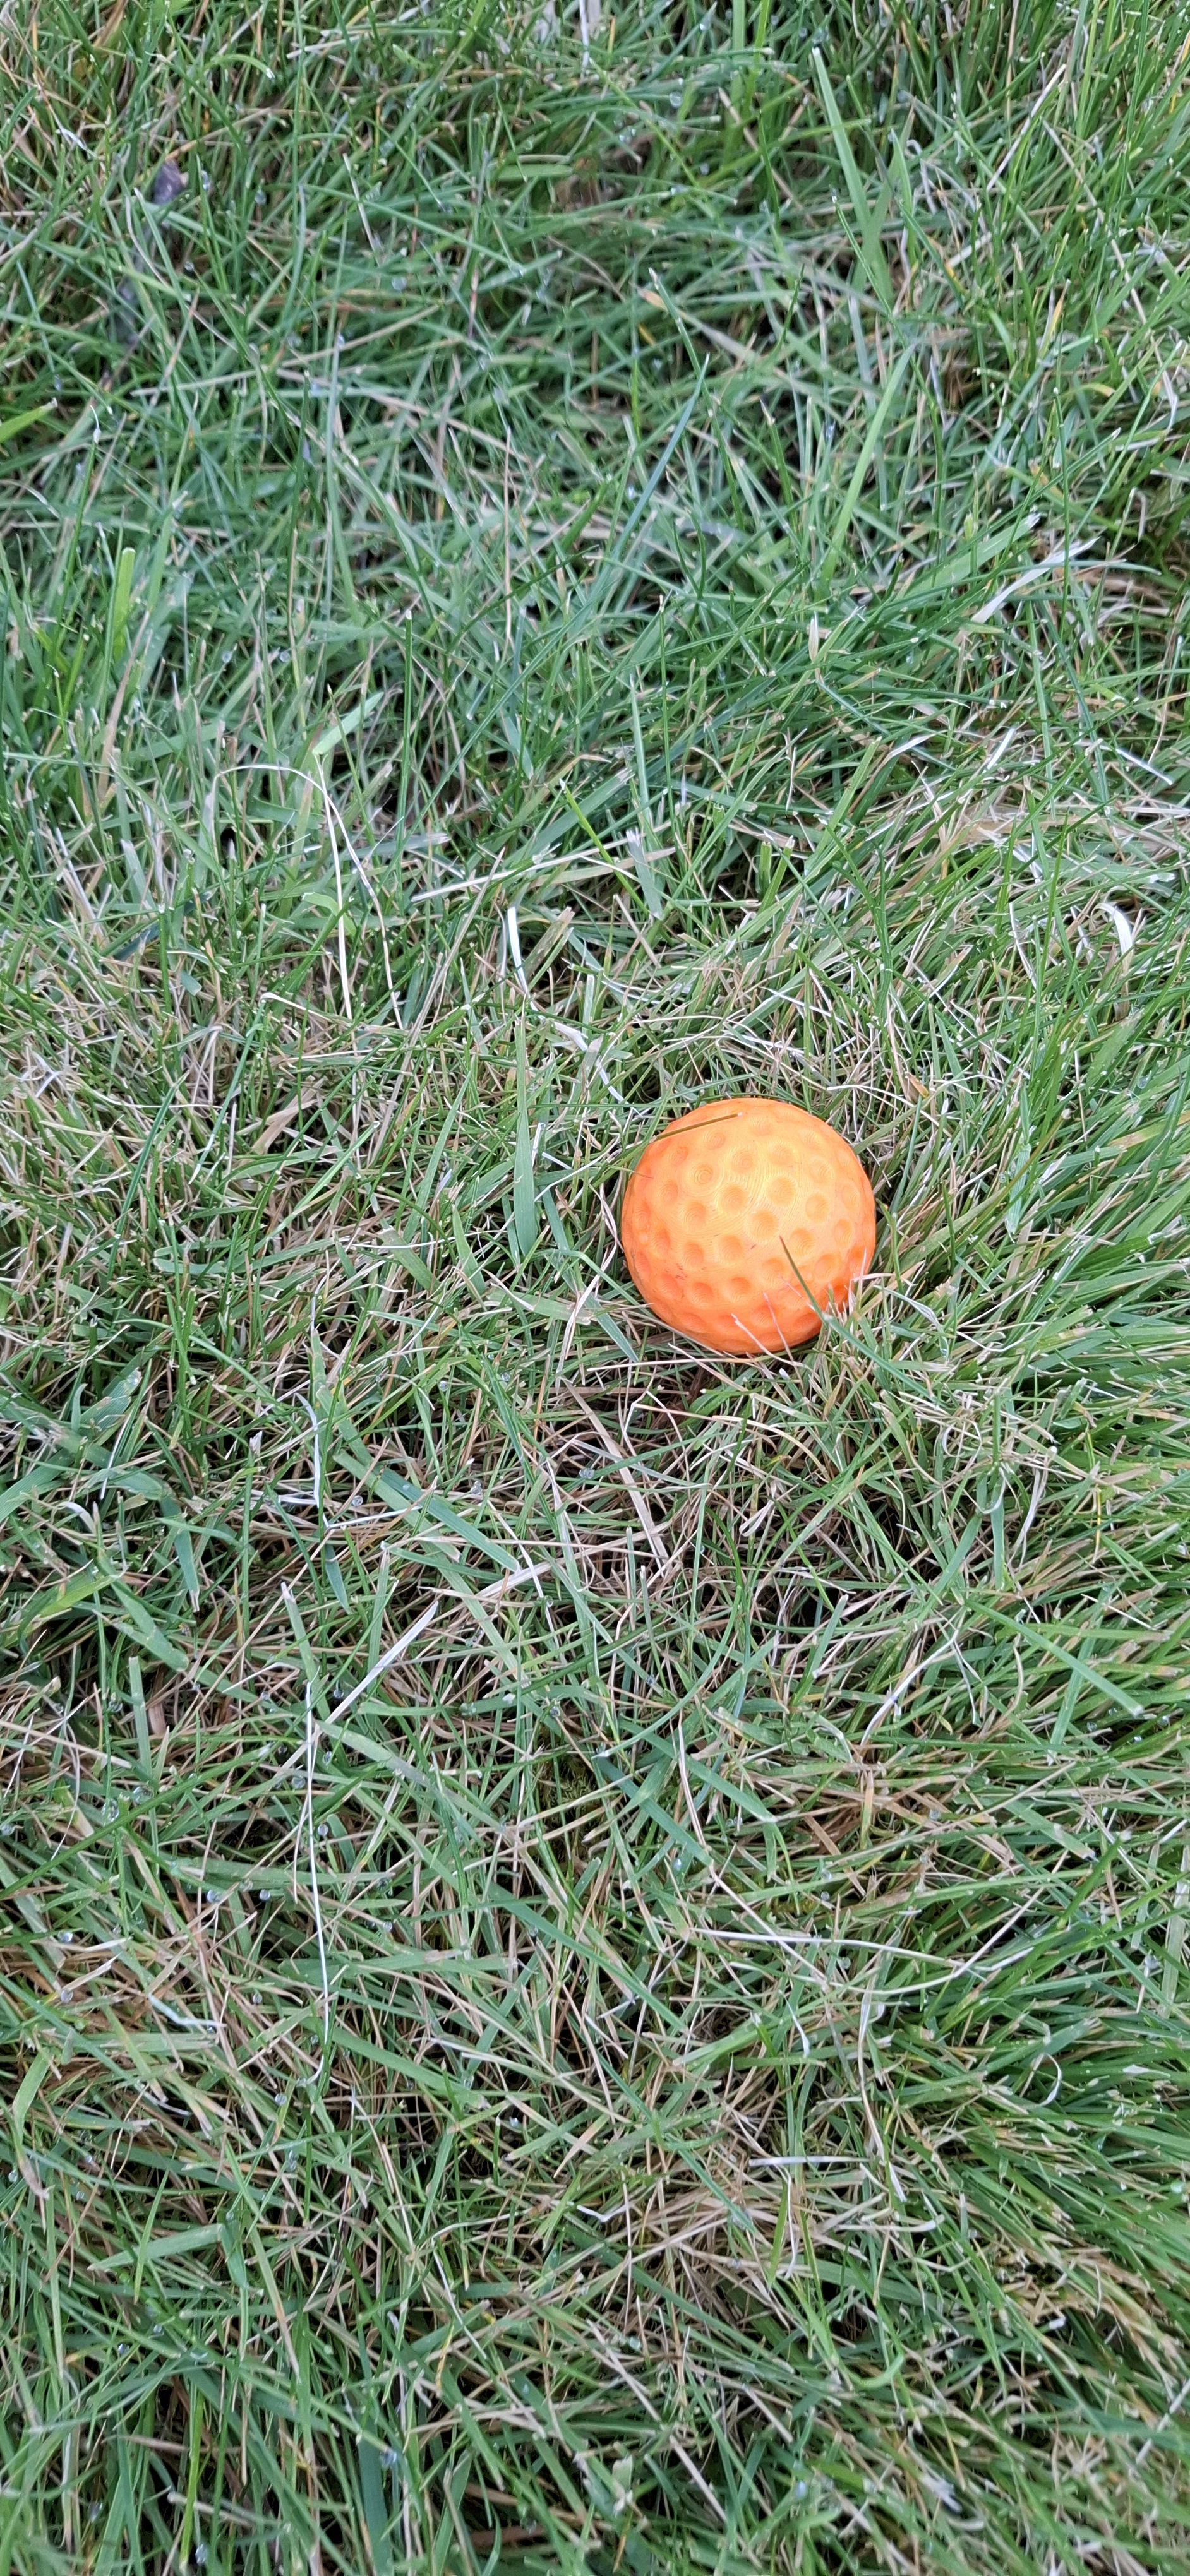ball: (506, 675, 626, 1239)
